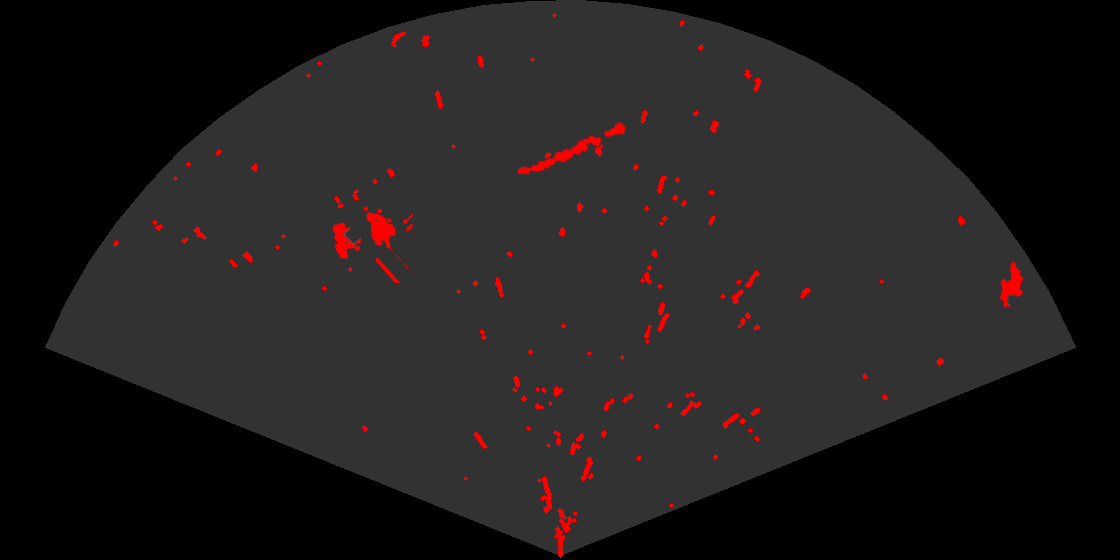AUV: (999, 260, 1024, 309)
cage: (331, 205, 413, 283)
chain: (515, 120, 628, 176)
